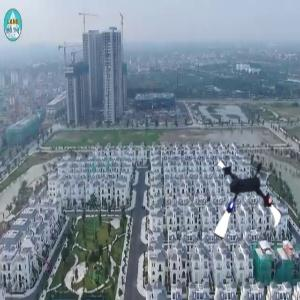drone: (201, 155, 293, 247)
